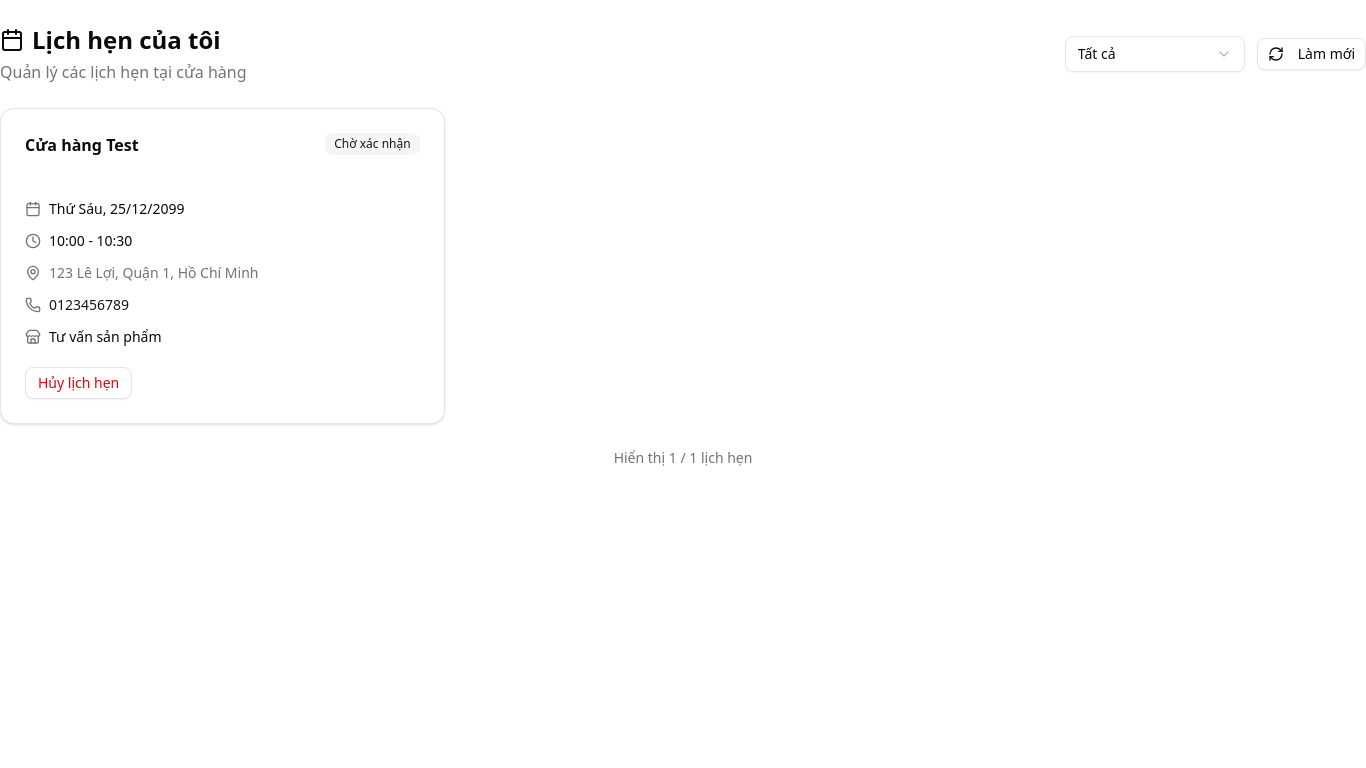
Scenario: Successful cancellation feedback (M08, S02) › announces success through role="status", flips the badge to Đã hủy, and restores focus to the card
Click the button "Hủy lịch hẹn" at (79, 383), box [25,367,132,399]
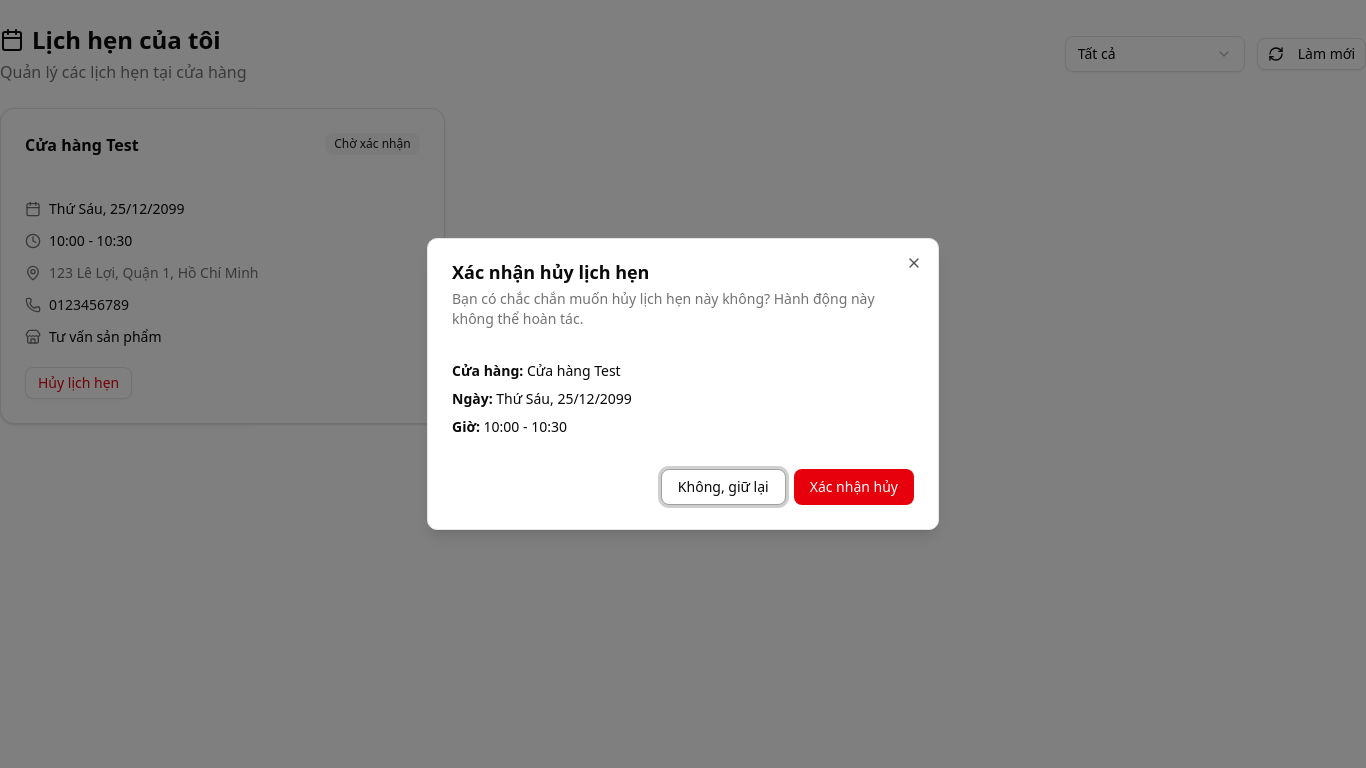
Check: the button "Xác nhận hủy" is shown
Click the button "Xác nhận hủy" at (854, 487), box [794,469,914,505]
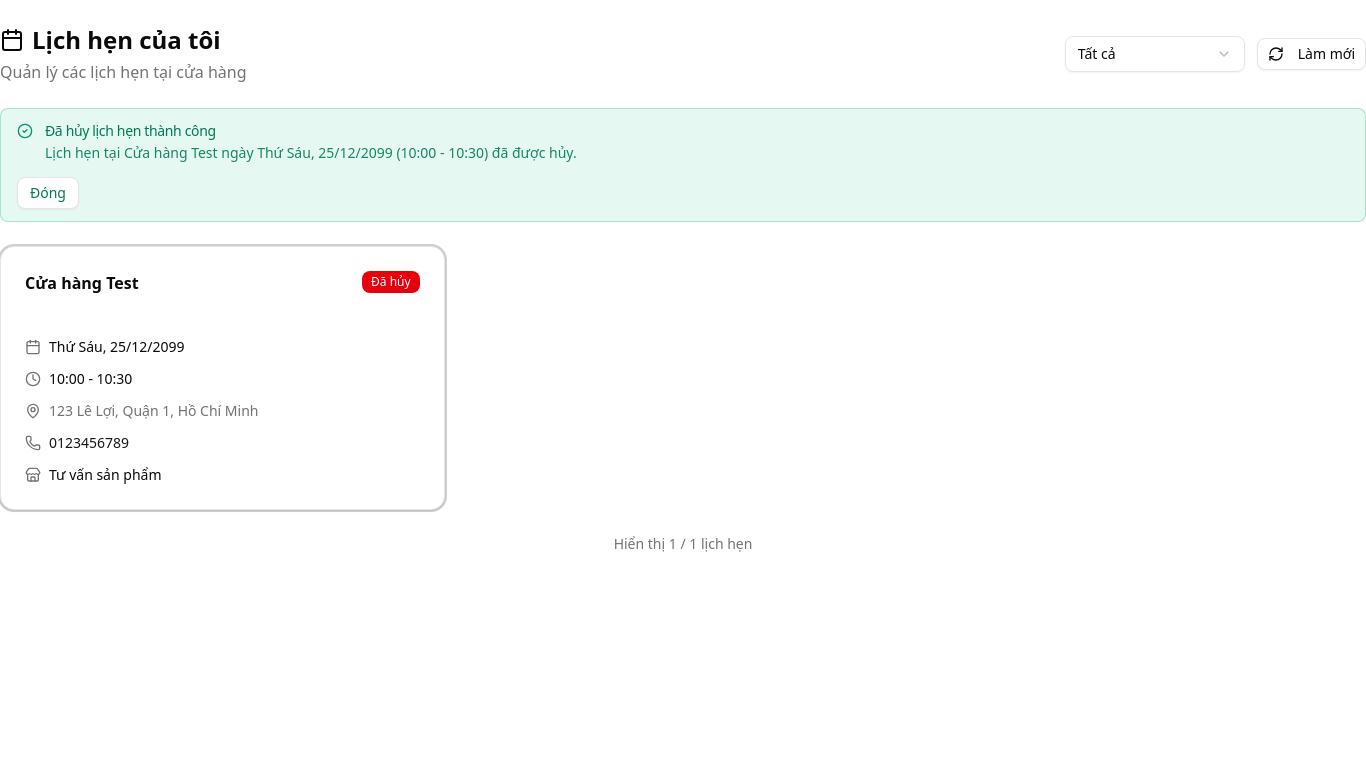
Check: the text "Đã hủy lịch hẹn thành công" is shown, box [45,121,216,140]
Check: the text "Đã hủy" is shown, box [362,271,420,293]
